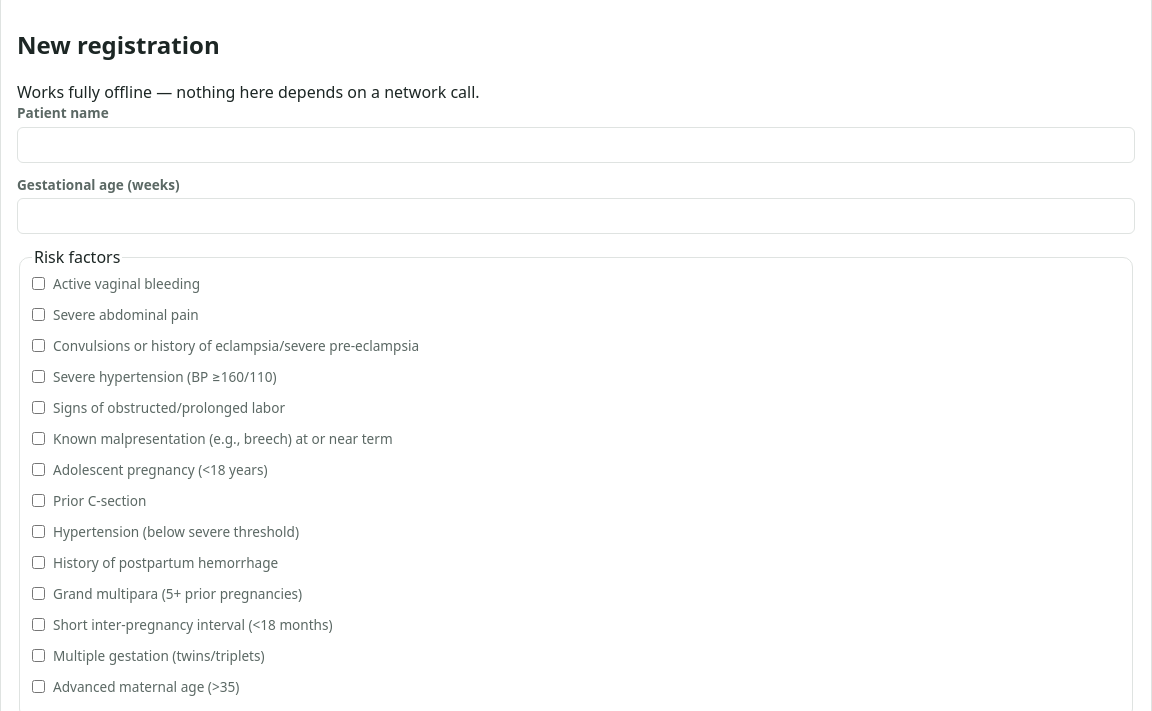
Test: RegistrationForm › submitting with a red-flag factor shows a High risk result with reasons, offline by construction
Type "Amina" into the field labelled "Patient name" at (576, 145), box top-left (17, 127), bottom-right (1135, 163)
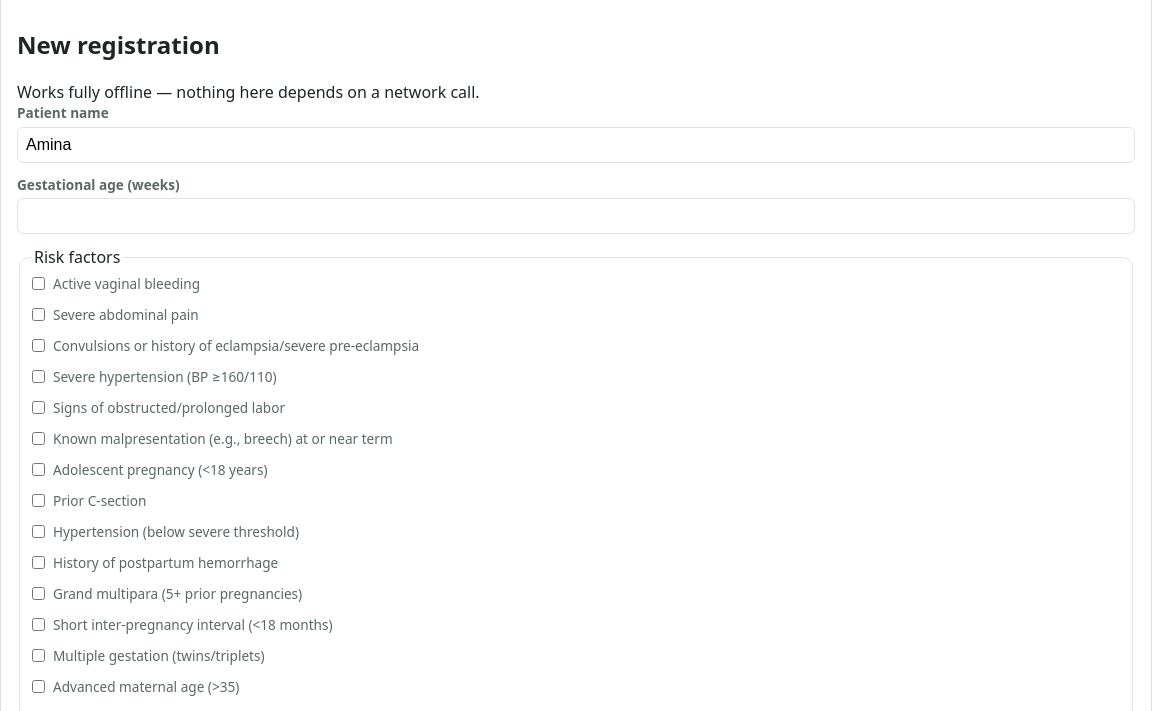
Type "30" into the number field labelled "Gestational age (weeks)" at (576, 216), box top-left (17, 198), bottom-right (1135, 234)
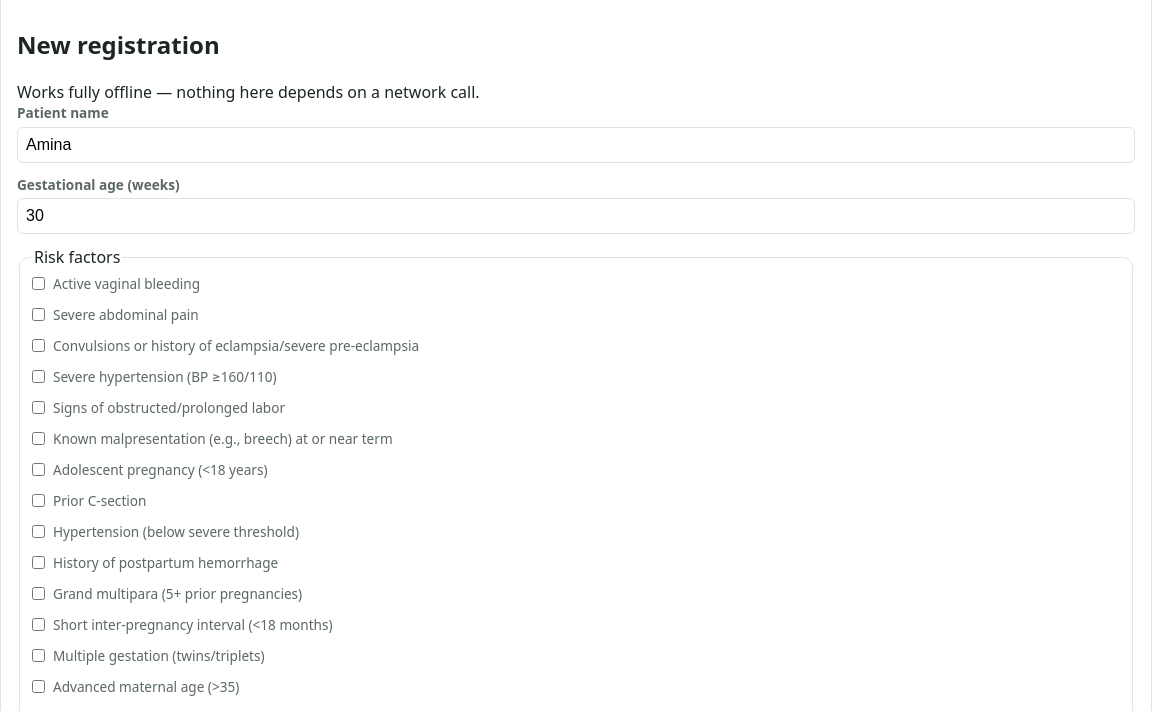
Click the checkbox labelled "Severe hypertension (BP ≥160/110)" at (38, 376), box top-left (32, 370), bottom-right (45, 383)
(page scrolled)
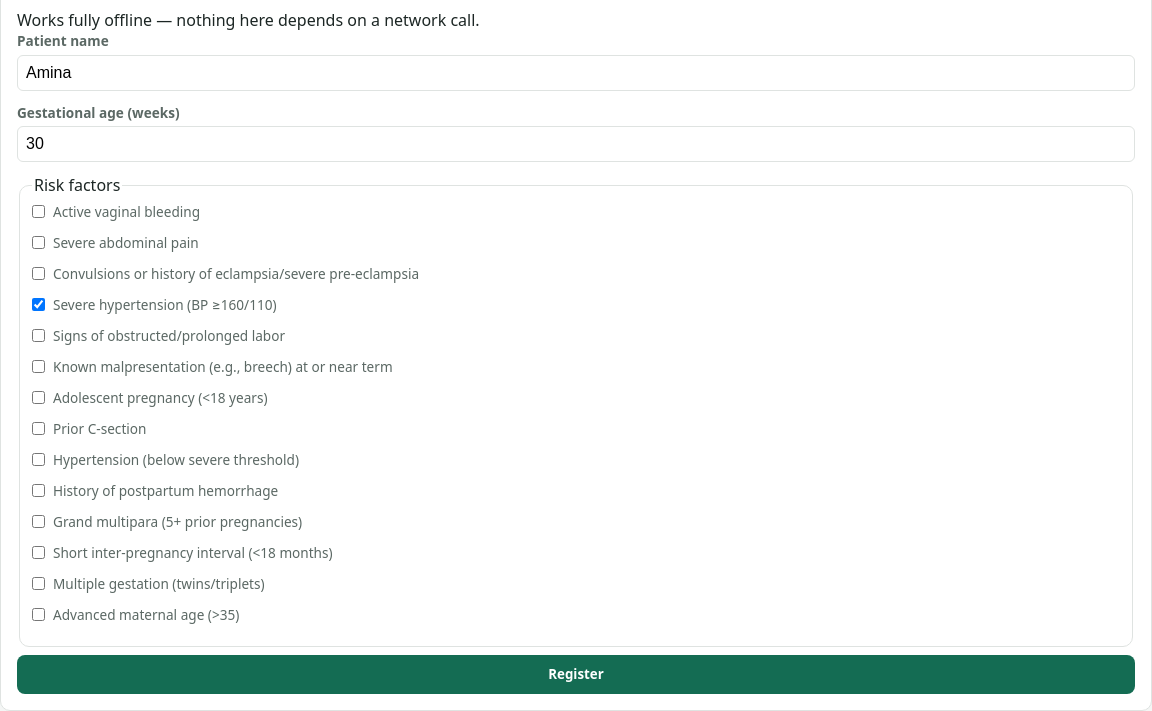
Click the button "Register" at (576, 674), box top-left (17, 655), bottom-right (1135, 694)
(page scrolled)
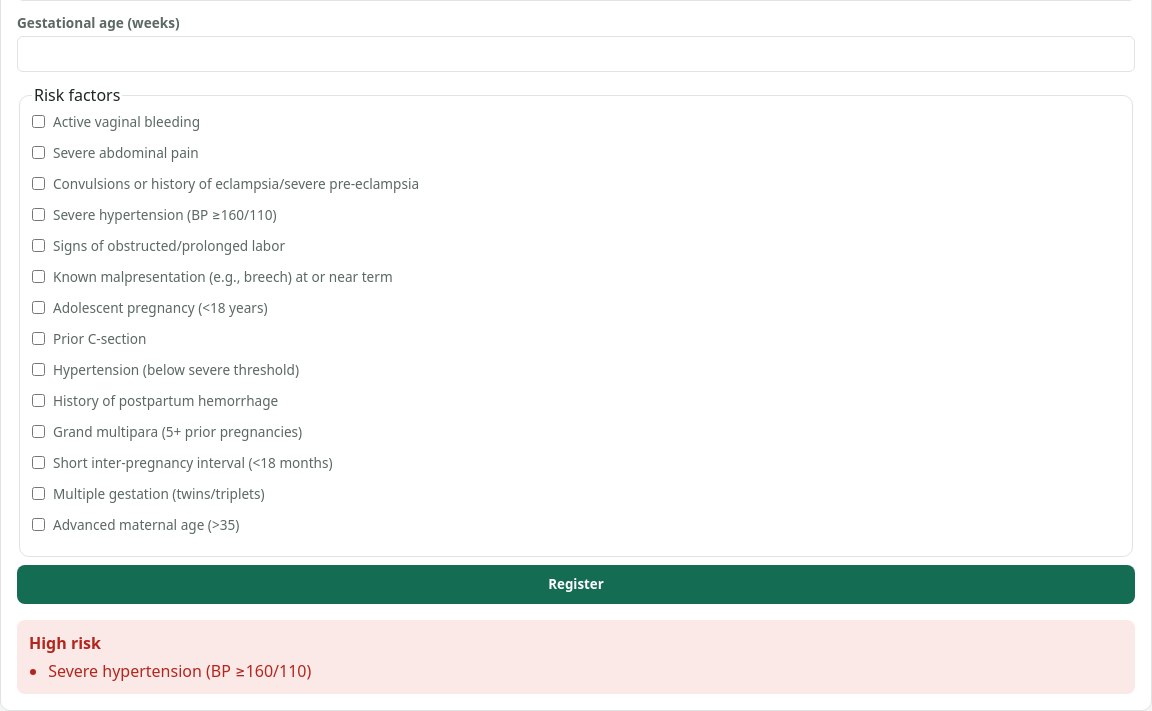
Expected: the text "High risk" is shown, top-left (29, 632), bottom-right (101, 654)
Expected: the list item "Severe hypertension (BP ≥160/110)" is shown, top-left (48, 660), bottom-right (311, 682)
